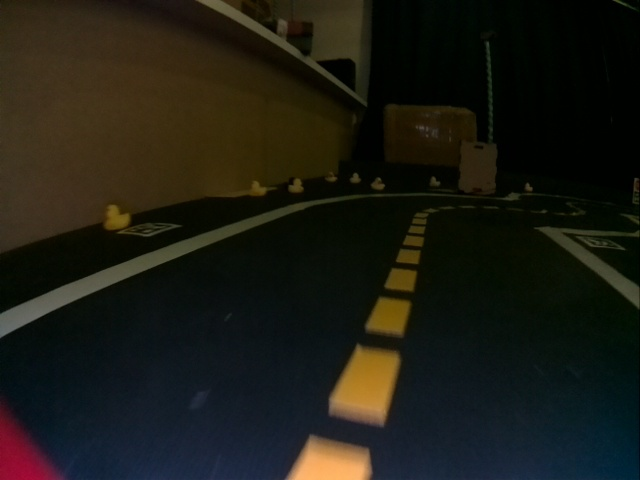Duckie: (104, 204, 130, 230), (250, 182, 266, 195), (288, 179, 304, 192), (430, 176, 440, 186), (371, 177, 380, 187), (524, 182, 534, 191), (349, 173, 359, 182), (324, 171, 335, 179)
QR code: (122, 223, 179, 236), (577, 235, 619, 249)
